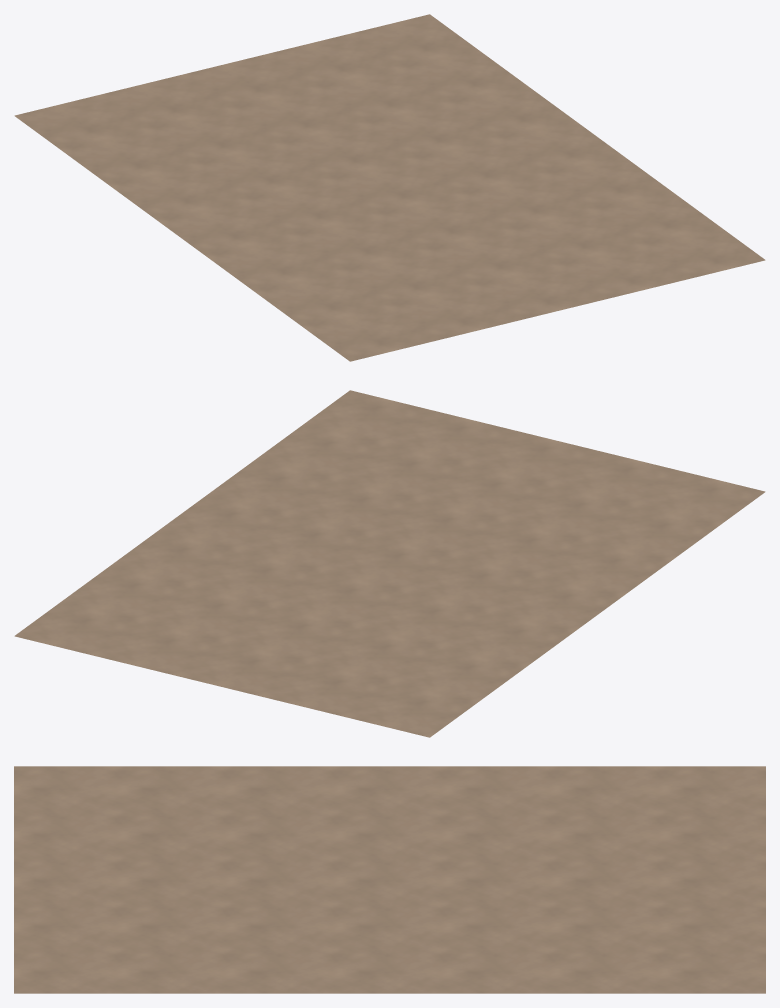
Rendered from stage1.FBX.
The picture shows the model from 3 angles, top to bottom: view 1: azimuth 30°, elevation 25°; view 2: azimuth 150°, elevation 25°; view 3: azimuth 270°, elevation 25°; orthographic projection. The views are drawn at different scales.
Visible parts, largest first — view 1: Plane002; view 2: Plane002; view 3: Plane002.
Boxes of the visible parts, x1,y1,x2,y2 form: Plane002: (14, 14, 765, 361); Plane002: (14, 390, 765, 737); Plane002: (14, 766, 765, 993).
Bounding box in the file's own units: 984 × 8.44e-14 × 1378.
